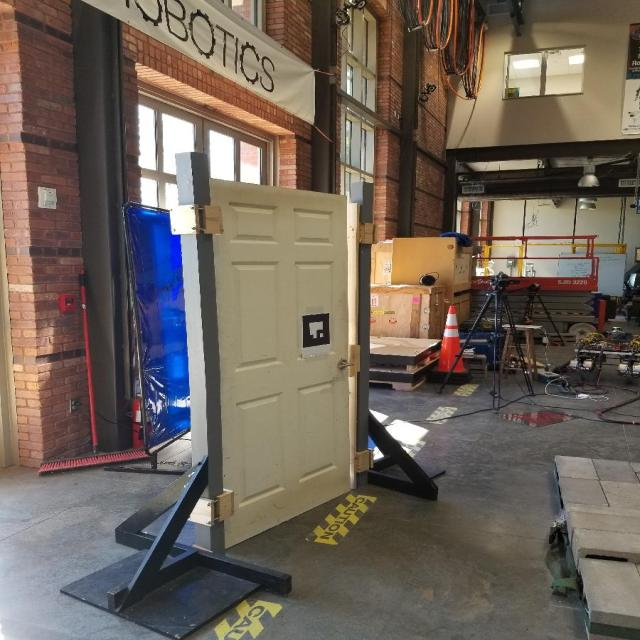doorhandle: (333, 358, 355, 374)
